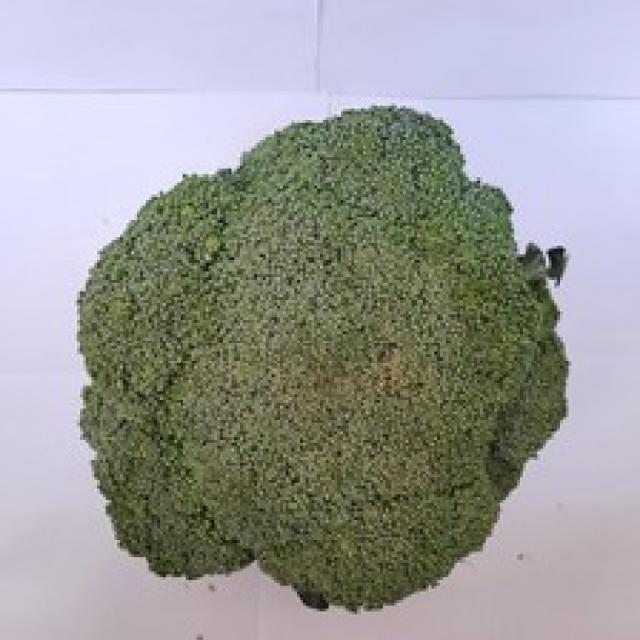Broccoli: (79, 108, 566, 609), (79, 108, 566, 609)
